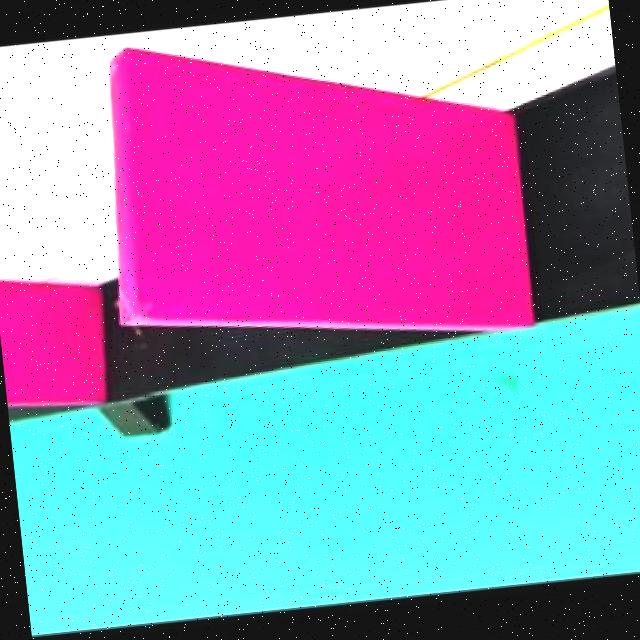xparking: (106, 15, 505, 312), (0, 267, 90, 402)
